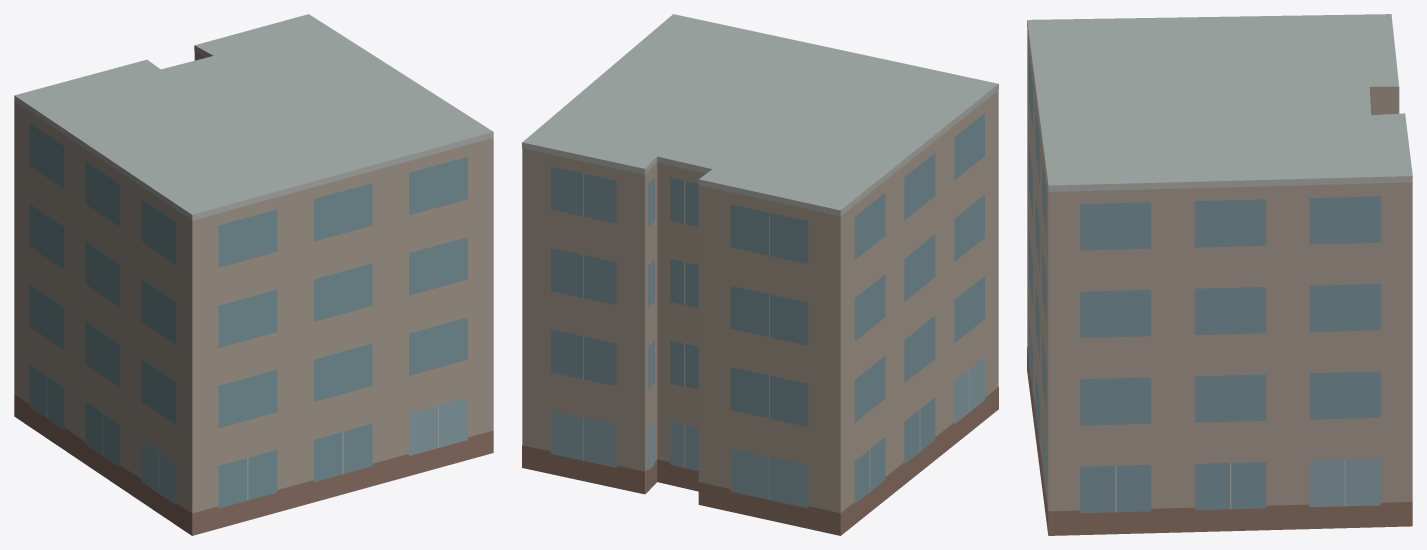
Rendered from survey-upis-32997520.glb.
3 views of the same model, side by side, from view 1: azimuth 30°, elevation 25°; view 2: azimuth 150°, elevation 25°; view 3: azimuth 270°, elevation 25° (orthographic). The views are drawn at different scales.
Parts seen in each view (by area): view 1: survey-upis-32997520.tmp; view 2: survey-upis-32997520.tmp; view 3: survey-upis-32997520.tmp.
Boxes of the visible parts, x1,y1,x2,y2 form: survey-upis-32997520.tmp: (14, 14, 493, 535); survey-upis-32997520.tmp: (522, 14, 998, 535); survey-upis-32997520.tmp: (1027, 14, 1412, 535).
Bounding box in the file's own units: 14.09 × 13.4 × 13.38.
